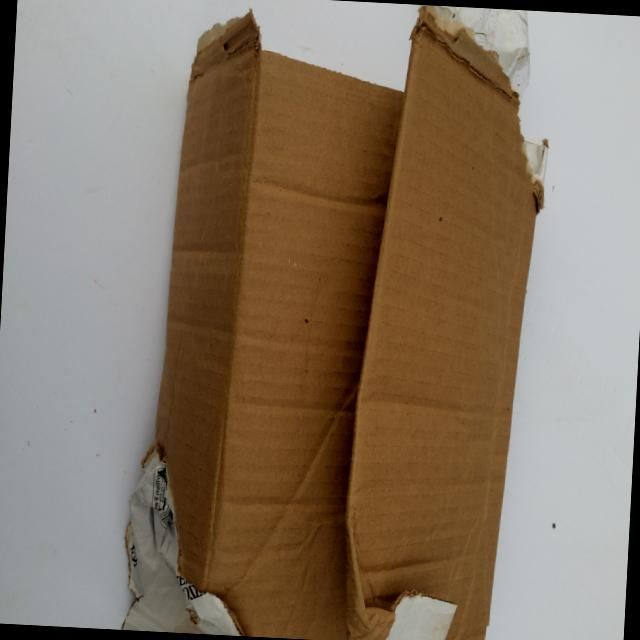Cardboard: (101, 0, 558, 640)
